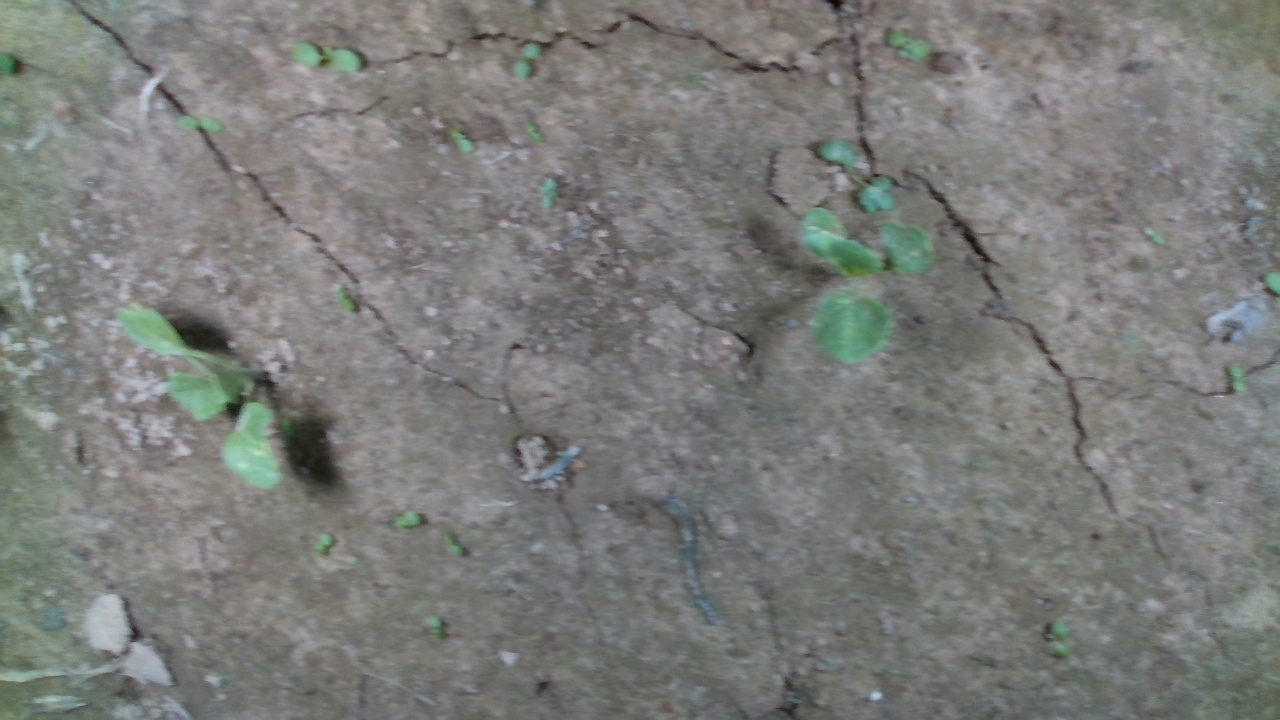weed: (286, 41, 362, 75), (510, 41, 541, 81), (174, 113, 225, 134), (536, 177, 558, 214), (1226, 362, 1247, 394)
